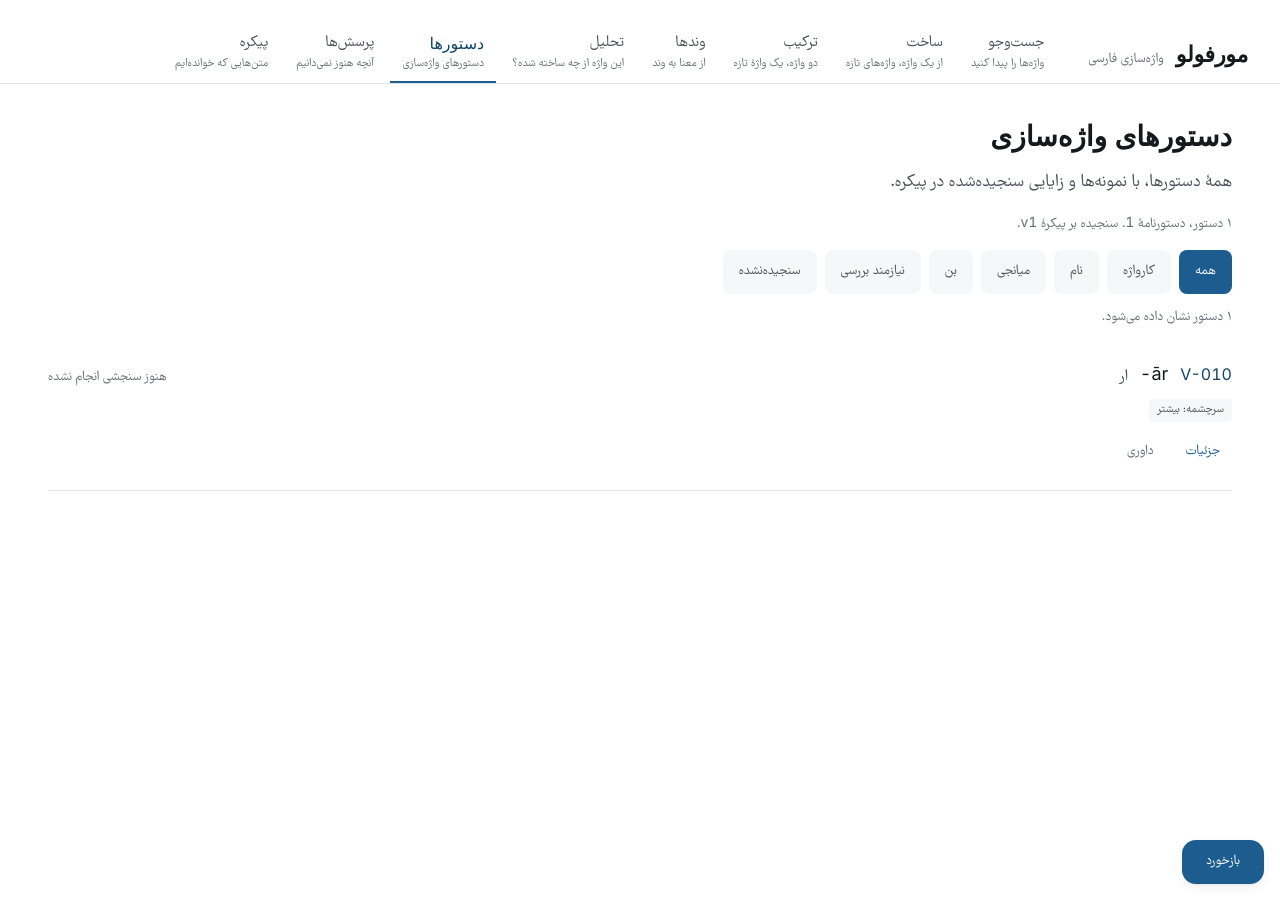
Scenario: when the API says the caller may not grade a word › offers no linguistic verdict, and says why
This screenshot has width=1280, height=900.
Click the button with aria-label "داوری دربارهٔ دستور V-010" at (1140, 452), box x1=1115 y1=430 x2=1166 y2=474
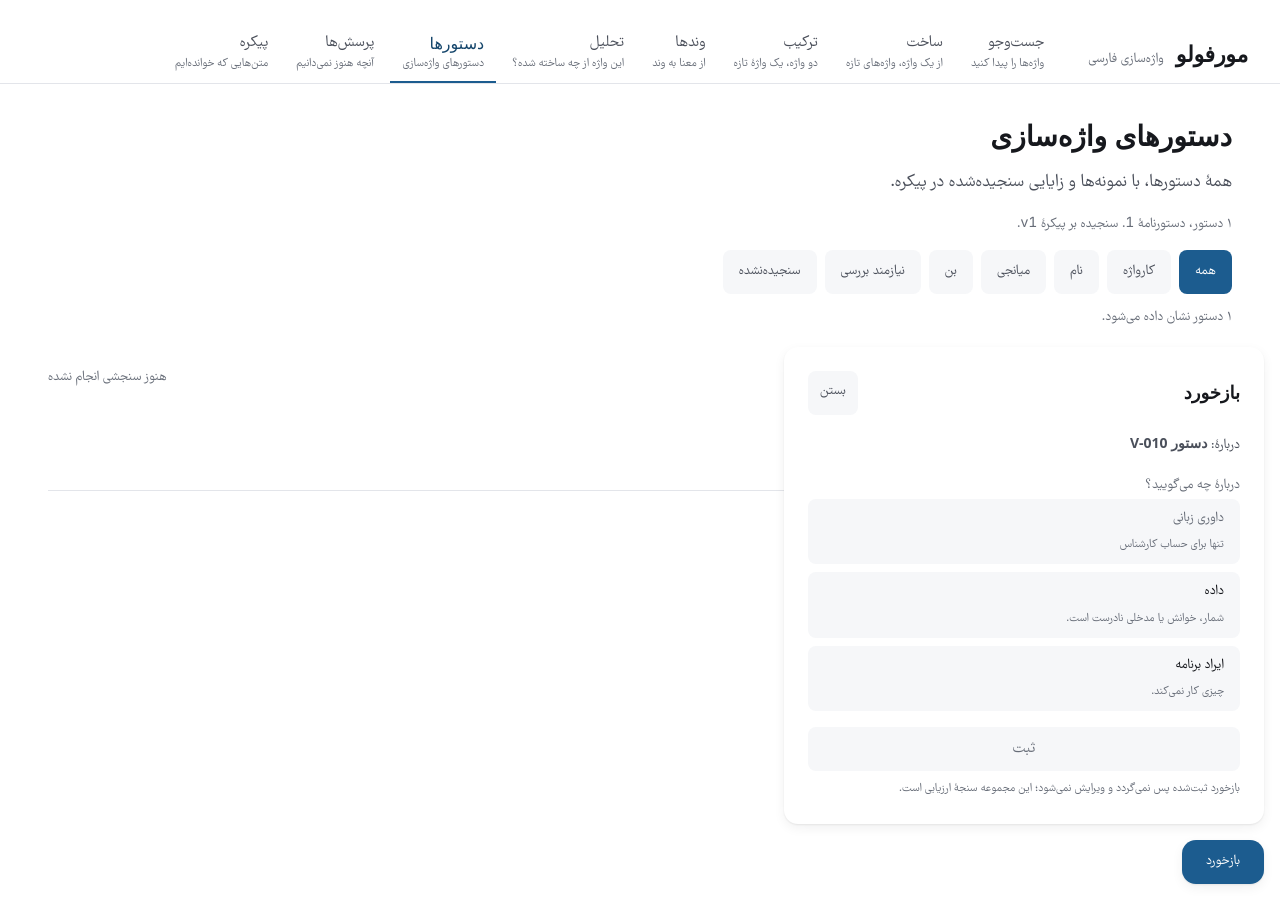
Expected: the button "داوری زبانی تنها برای حساب کارشناس" is disabled, x1=808 y1=498 x2=1240 y2=564
Expected: the text "تنها برای حساب کارشناس" is shown, x1=1120 y1=535 x2=1224 y2=556
